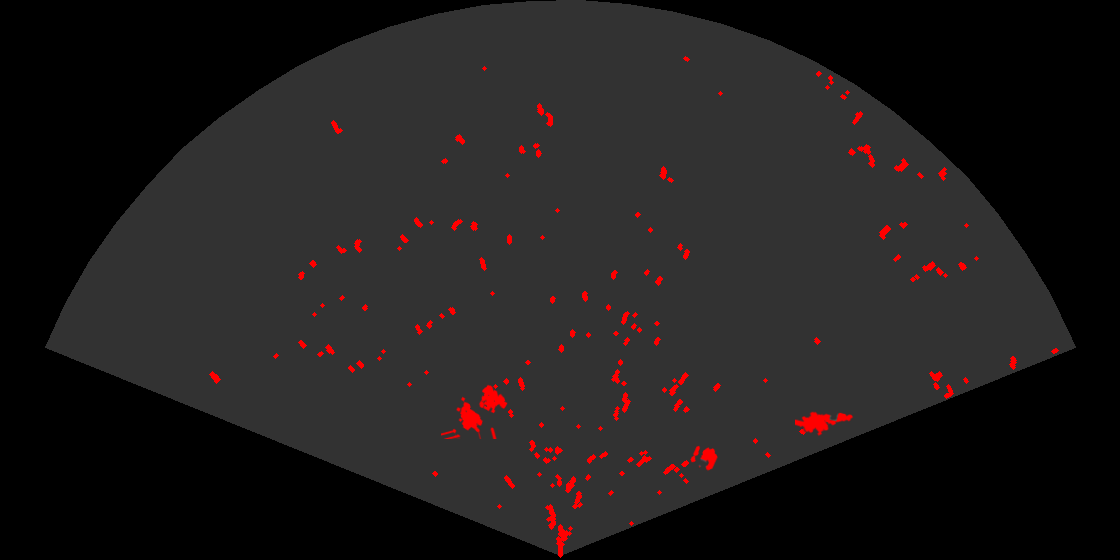ball: (689, 444, 719, 473)
cage: (441, 383, 509, 439)
frogman: (795, 410, 854, 438)
